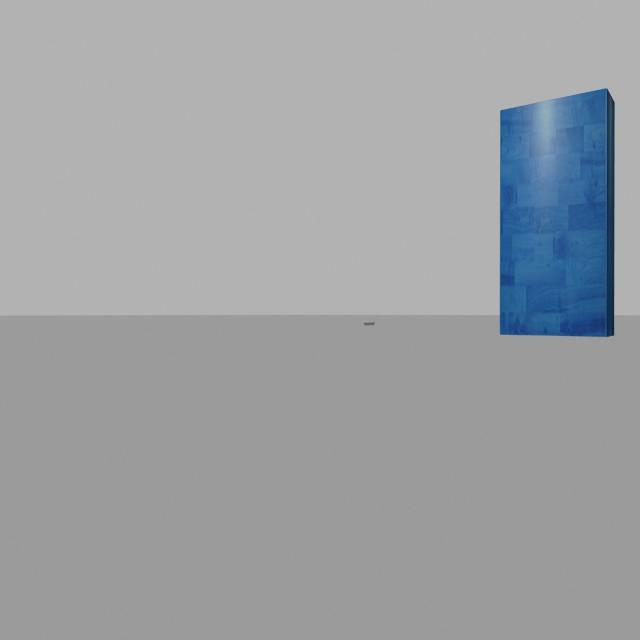bowl: (358, 314, 379, 338)
shelf: (482, 74, 627, 353)
